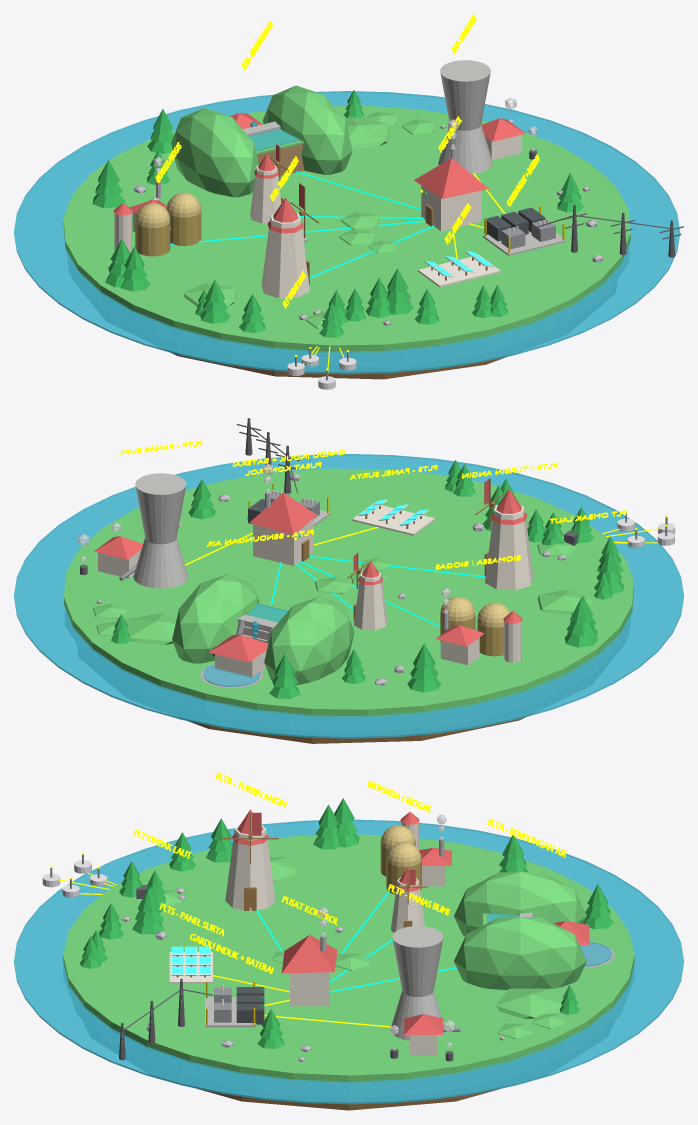
Rendered from EBT_PEMBANGKIT.glb.
3 renders of one model, top to bottom at view 1: azimuth 30°, elevation 25°; view 2: azimuth 150°, elevation 25°; view 3: azimuth 270°, elevation 25°, orthographic.
Parts seen in each view (by area): view 1: Rumput_Permukaan, Air_Laut, PLTA_Bukit_0, PLTA_Bukit_1, PLTB_Kincir_1_Badan, PLTP_MenaraPendingin_Atas, Kontrol_Badan, Kontrol_Atap, PLTP_MenaraPendingin_Bawah, Lapisan_Tanah_2, PLTB_Kincir_2_Badan, PLTS_Alas (+14 smaller); view 2: Rumput_Permukaan, Air_Laut, PLTA_Bukit_0, PLTA_Bukit_1, PLTB_Kincir_1_Badan, PLTP_MenaraPendingin_Atas, PLTP_MenaraPendingin_Bawah, Kontrol_Badan, Kontrol_Atap, PLTB_Kincir_2_Badan, Lapisan_Tanah_2, Bukit_2 (+16 smaller); view 3: Rumput_Permukaan, Air_Laut, PLTA_Bukit_1, PLTA_Bukit_0, PLTP_MenaraPendingin_Atas, PLTB_Kincir_1_Badan, Bukit_2, Kontrol_Atap, Kontrol_Badan, Lapisan_Tanah_2, PLTP_MenaraPendingin_Bawah, PLTB_Kincir_2_Badan (+10 smaller).
Part boxes in pixels (x1,y1,x2,y2): Rumput_Permukaan: (63, 105, 630, 353); Air_Laut: (14, 91, 680, 374); PLTA_Bukit_0: (171, 108, 258, 197); PLTA_Bukit_1: (263, 85, 352, 174); PLTB_Kincir_1_Badan: (261, 213, 309, 298); PLTP_MenaraPendingin_Atas: (440, 60, 490, 130); Kontrol_Badan: (421, 185, 481, 231); Kontrol_Atap: (414, 158, 488, 198); PLTP_MenaraPendingin_Bawah: (438, 124, 492, 174); Lapisan_Tanah_2: (170, 352, 507, 379); PLTB_Kincir_2_Badan: (250, 165, 281, 223); PLTS_Alas: (418, 255, 500, 287); Rumput_Permukaan: (64, 468, 633, 717); Air_Laut: (14, 454, 683, 738); PLTA_Bukit_0: (264, 596, 354, 685); PLTA_Bukit_1: (172, 573, 259, 663); PLTB_Kincir_1_Badan: (485, 504, 533, 590); PLTP_MenaraPendingin_Atas: (135, 473, 186, 544); PLTP_MenaraPendingin_Bawah: (133, 538, 188, 588); Kontrol_Badan: (253, 519, 313, 565); Kontrol_Atap: (249, 492, 317, 534); PLTB_Kincir_2_Badan: (354, 571, 387, 630); Lapisan_Tanah_2: (188, 717, 525, 743); Bukit_2: (125, 612, 176, 644); Rumput_Permukaan: (63, 834, 634, 1083); Air_Laut: (14, 819, 683, 1104); PLTA_Bukit_1: (454, 917, 586, 990); PLTA_Bukit_0: (454, 872, 586, 936); PLTP_MenaraPendingin_Atas: (392, 926, 443, 996); PLTB_Kincir_1_Badan: (225, 824, 275, 911); Bukit_2: (496, 988, 561, 1018); Kontrol_Atap: (281, 935, 337, 973); Kontrol_Badan: (290, 972, 329, 1006); Lapisan_Tanah_2: (195, 1088, 502, 1110); PLTP_MenaraPendingin_Bawah: (391, 991, 444, 1040); PLTB_Kincir_2_Badan: (390, 877, 424, 932).
Bounding box in the file's own units: 34 × 9.53 × 34.
